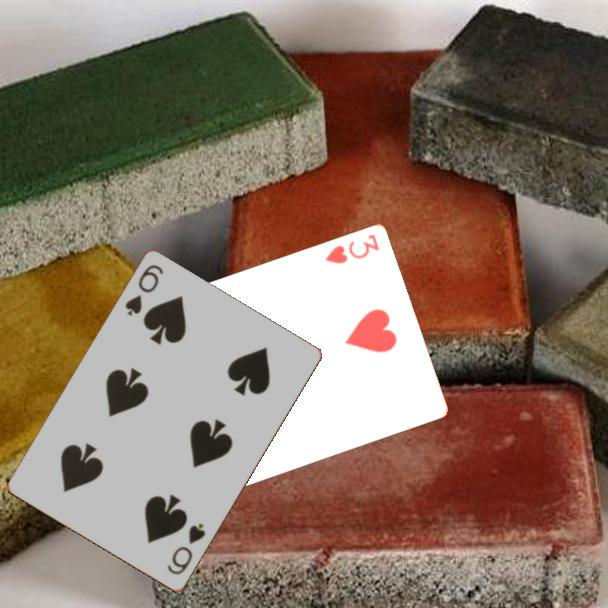h03: (321, 231, 382, 267)
s06: (121, 261, 166, 320), (164, 520, 209, 578)
